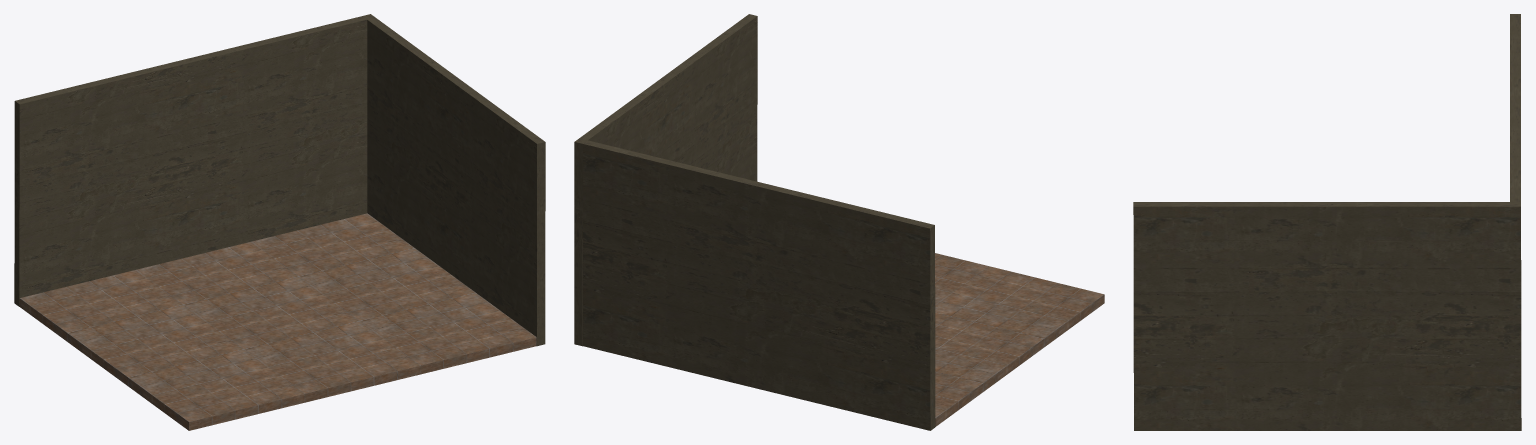
Rendered from room.glb.
3 views of the same model, side by side, from view 1: azimuth 30°, elevation 25°; view 2: azimuth 150°, elevation 25°; view 3: azimuth 270°, elevation 25° (orthographic). The views are drawn at different scales.
Visible parts, largest first — view 1: floor.002, floor, floor.001; view 2: floor.002, floor.001, floor; view 3: floor.001, floor.002.
Boxes of the visible parts, left/top/right/bottom form: floor.002: left=14, top=16, right=367, bottom=306; floor: left=19, top=213, right=536, bottom=430; floor.001: left=362, top=14, right=545, bottom=346; floor.002: left=583, top=140, right=935, bottom=430; floor.001: left=574, top=14, right=757, bottom=346; floor: left=935, top=253, right=1104, bottom=426; floor.001: left=1133, top=202, right=1521, bottom=430; floor.002: left=1510, top=14, right=1520, bottom=201.
Size of the model in its own units: 27.85 by 15.12 by 23.69.
2 materials, 2 textured.
